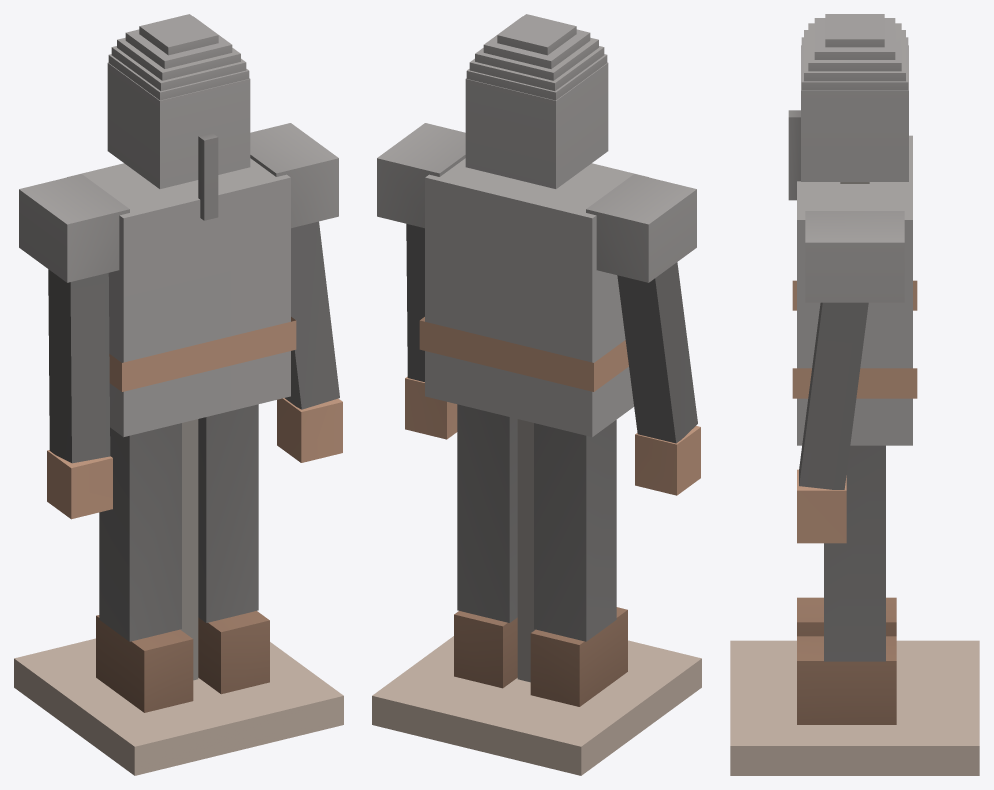
The model's file is kit_armor.glb.
The picture shows the model from 3 angles, left to right: view 1: azimuth 30°, elevation 25°; view 2: azimuth 150°, elevation 25°; view 3: azimuth 270°, elevation 25°; orthographic projection. The views are drawn at different scales.
Visible parts, largest first — view 1: kit_armor; view 2: kit_armor; view 3: kit_armor.
Part boxes in pixels (left/top/right/bottom): kit_armor: left=14, top=14, right=343, bottom=775; kit_armor: left=372, top=14, right=701, bottom=775; kit_armor: left=730, top=14, right=979, bottom=775.
Size of the model in its own units: 0.78 by 1.85 by 0.6.
